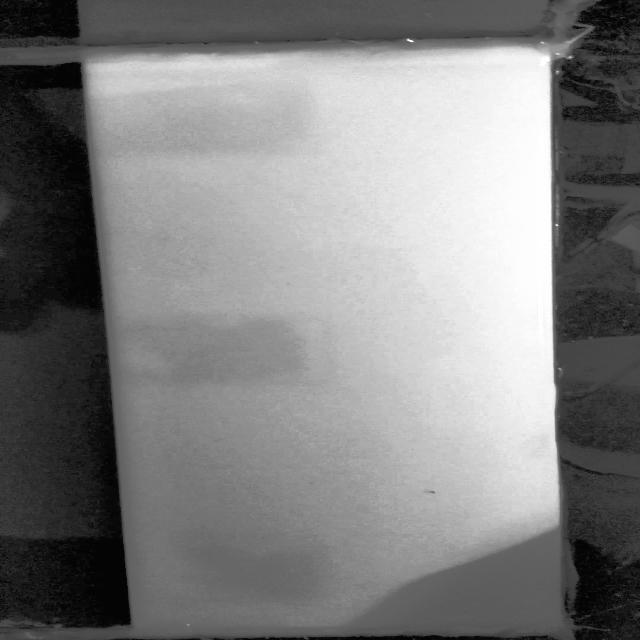shrimp: (415, 485, 445, 498)
